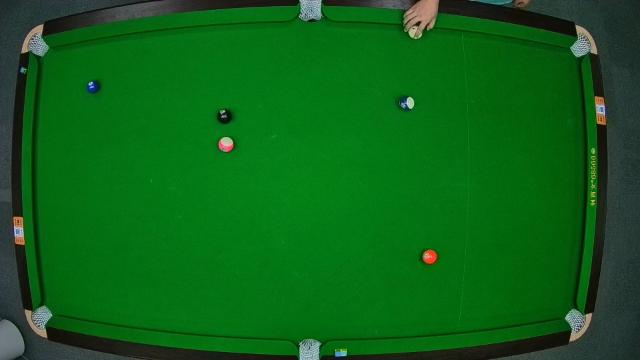bag1: (28, 34, 46, 54)
bag2: (298, 1, 322, 23)
bag3: (572, 38, 590, 56)
bag4: (28, 303, 54, 329)
bag5: (297, 338, 321, 360)
bag6: (566, 310, 586, 332)
ball10: (397, 95, 415, 111)
ball12: (218, 136, 236, 154)
ball2: (86, 78, 102, 94)
ball5: (422, 248, 438, 266)
ball8: (218, 108, 234, 124)
